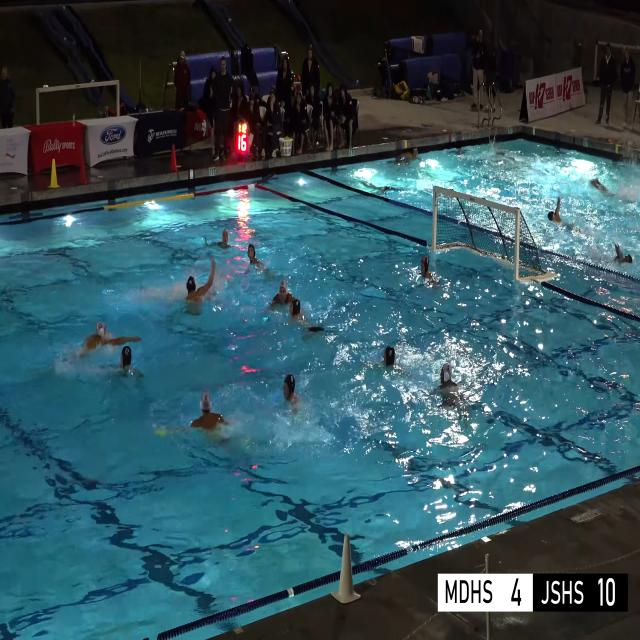ball: (154, 428, 166, 436), (284, 136, 290, 140)
